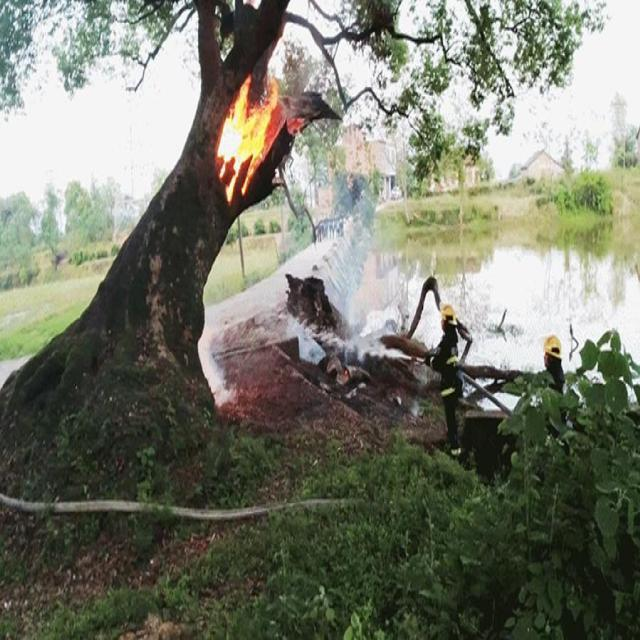fire: (215, 76, 275, 197)
